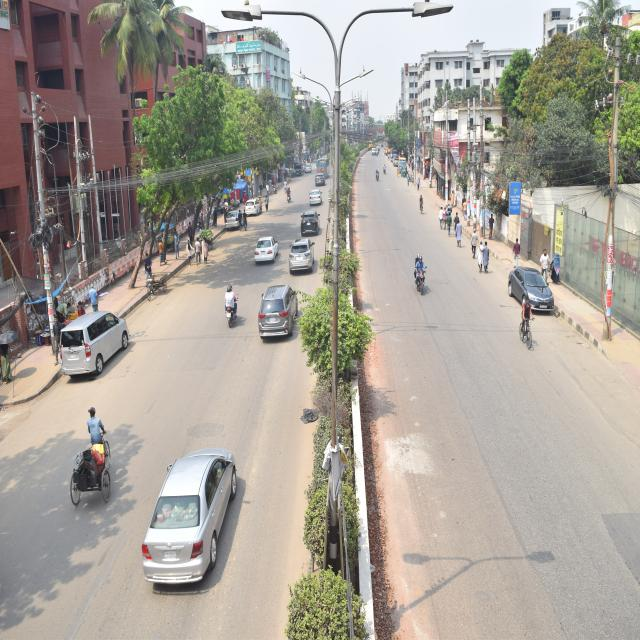bus: (311, 142, 334, 178)
car: (118, 410, 264, 594), (42, 276, 169, 390), (500, 234, 586, 344), (247, 272, 336, 364), (280, 220, 328, 286), (240, 212, 283, 276), (214, 194, 244, 238), (235, 186, 267, 223), (296, 207, 328, 244), (300, 185, 330, 218), (304, 160, 328, 193), (301, 158, 315, 178), (371, 142, 378, 164)
motorbike: (208, 264, 243, 351), (400, 236, 442, 305), (369, 166, 388, 206), (281, 182, 293, 215), (380, 153, 392, 184)
pickup-van: (394, 154, 414, 184), (292, 159, 304, 178)
